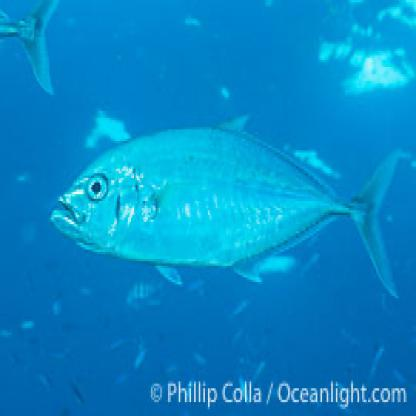Carangidae -Jacks-: (47, 112, 400, 294)
